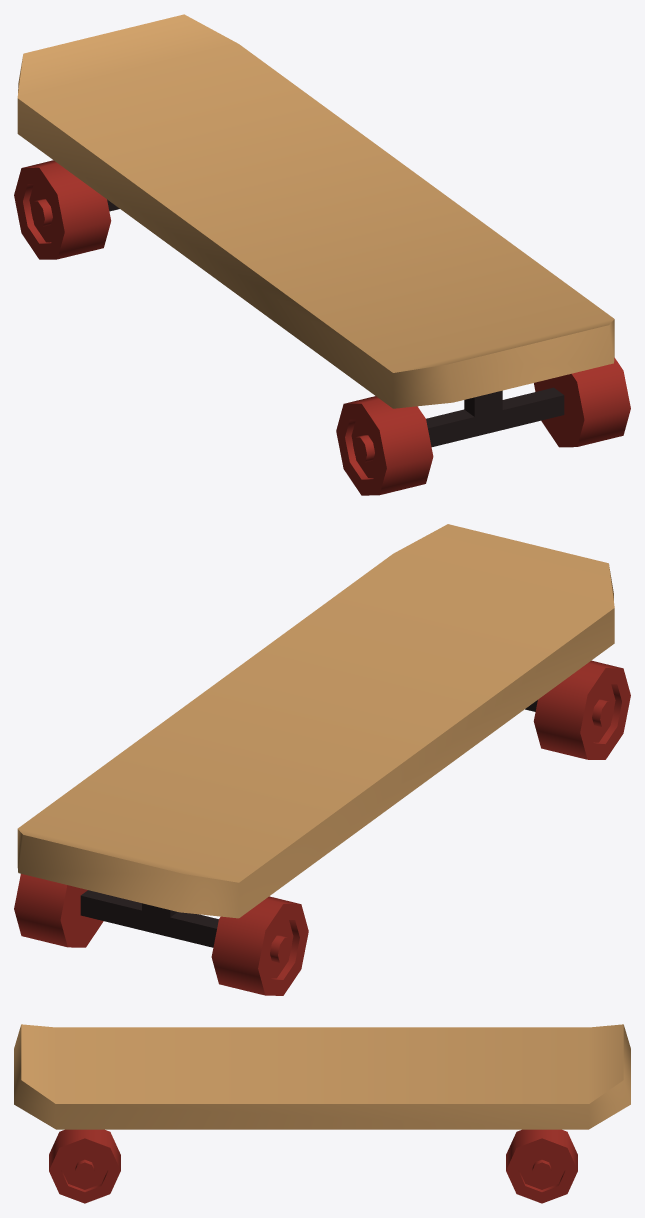
File: 45_prop_skateboard.FBX
3 renders of one model, top to bottom at view 1: azimuth 30°, elevation 25°; view 2: azimuth 150°, elevation 25°; view 3: azimuth 270°, elevation 25°, orthographic. The views are drawn at different scales.
Parts seen in each view (by area): view 1: prop_skateboard; view 2: prop_skateboard; view 3: prop_skateboard.
Boxes of the visible parts, bbox=[...] form: prop_skateboard: bbox=[14, 14, 630, 495]; prop_skateboard: bbox=[14, 524, 630, 995]; prop_skateboard: bbox=[14, 1024, 630, 1203].
Bounding box in the file's own units: 20.33 × 12.1 × 61.97.
